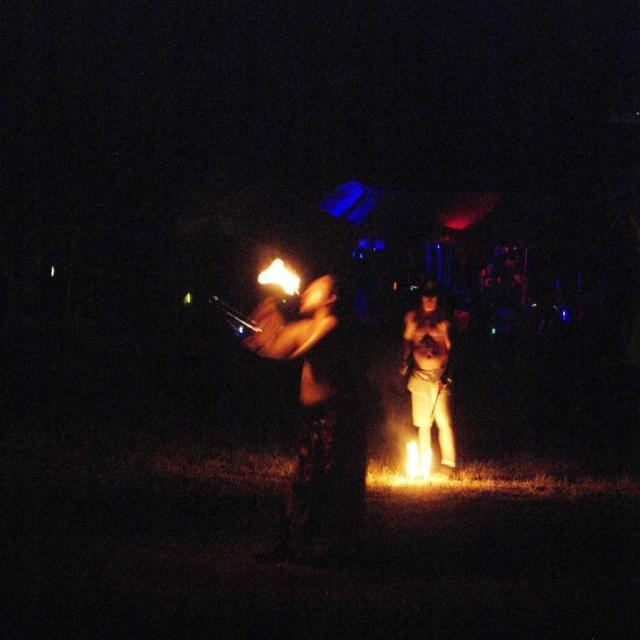Fire: (256, 250, 302, 298), (408, 436, 436, 484)
